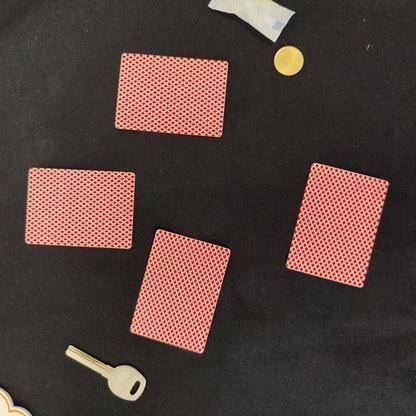card: (276, 151, 397, 299), (136, 225, 241, 362), (104, 44, 237, 148), (13, 157, 144, 261)
